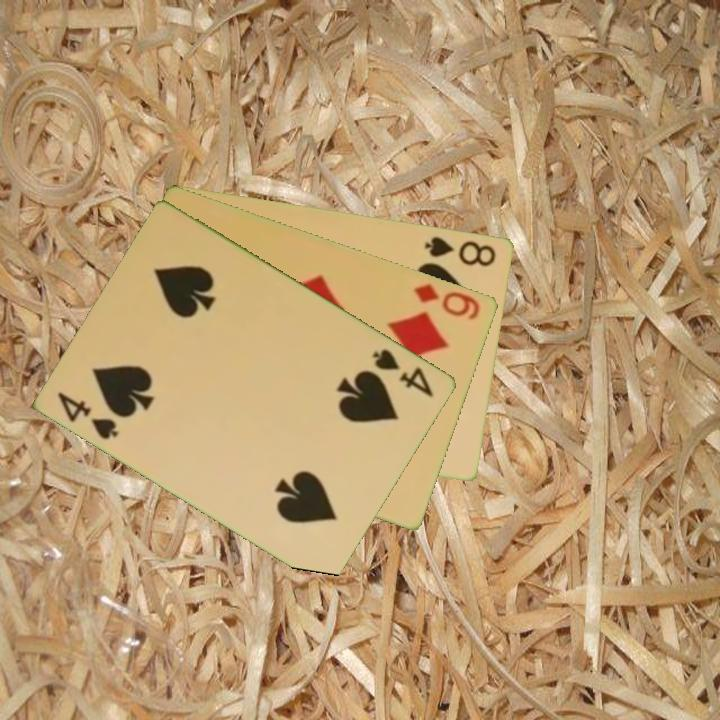4s: (369, 345, 438, 400), (54, 388, 122, 443)
6d: (410, 280, 484, 323)
8s: (422, 232, 499, 269)
